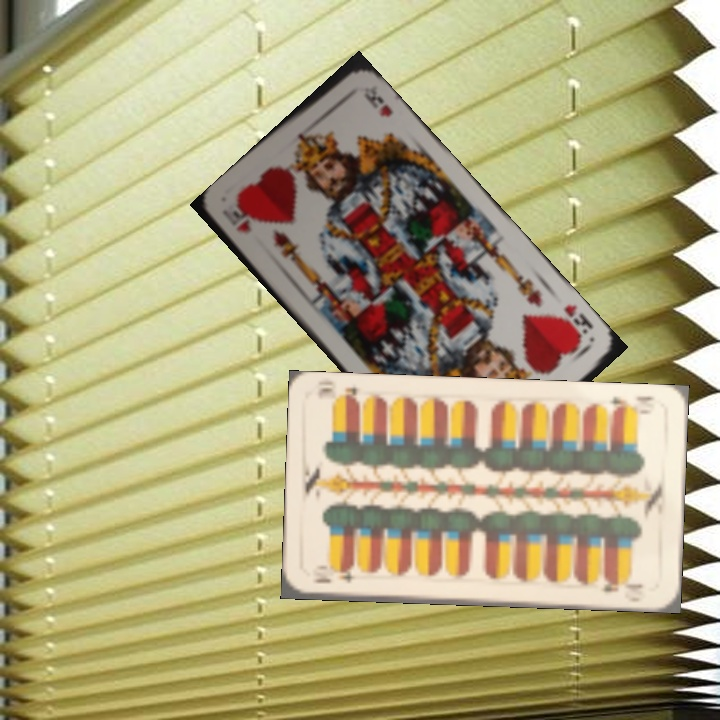E10: (605, 392, 657, 416), (308, 565, 365, 586)
HK: (550, 300, 596, 344), (219, 206, 254, 236)
